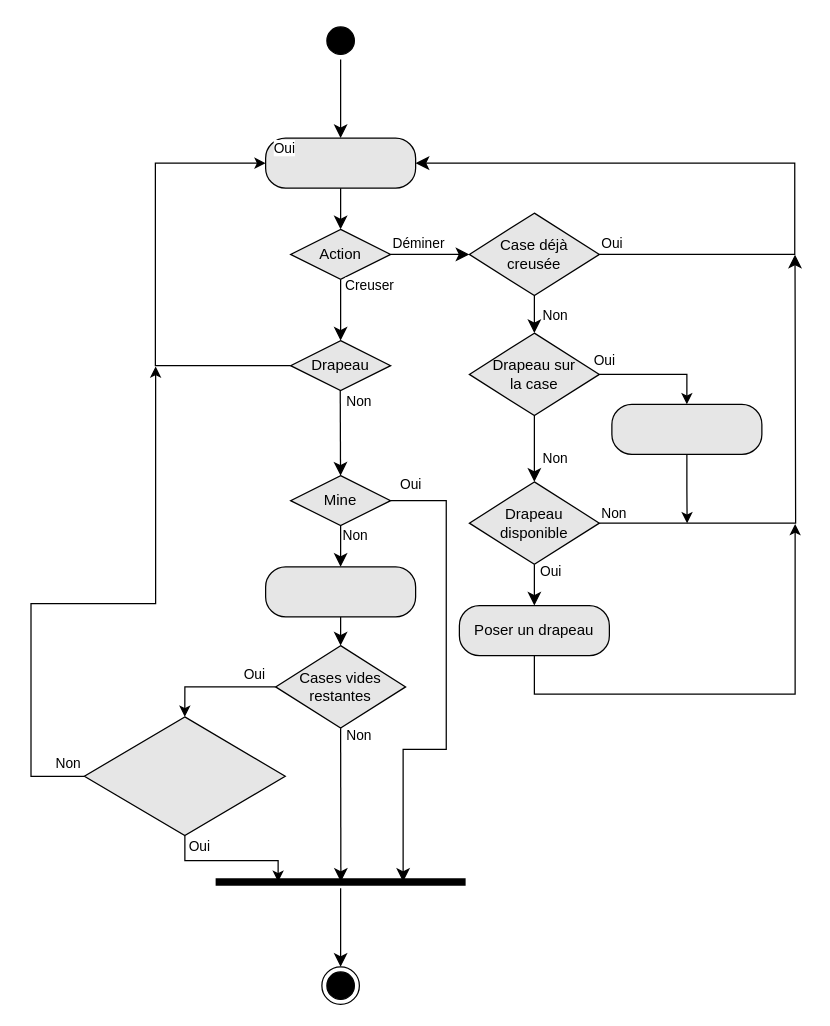
Image size: 830x1026. Some labels were removed from this diagram. The shapes that lost their labels are listed below. From the top down, each one's centre as x and y in pixels, then its label:
At (x=340, y=162): "Choisir case".
At (x=686, y=428): "Enlever le drapeau".
At (x=340, y=591): "Creuser la case".
At (x=184, y=776): "Même nombre de cases que de drapeaux restants".
